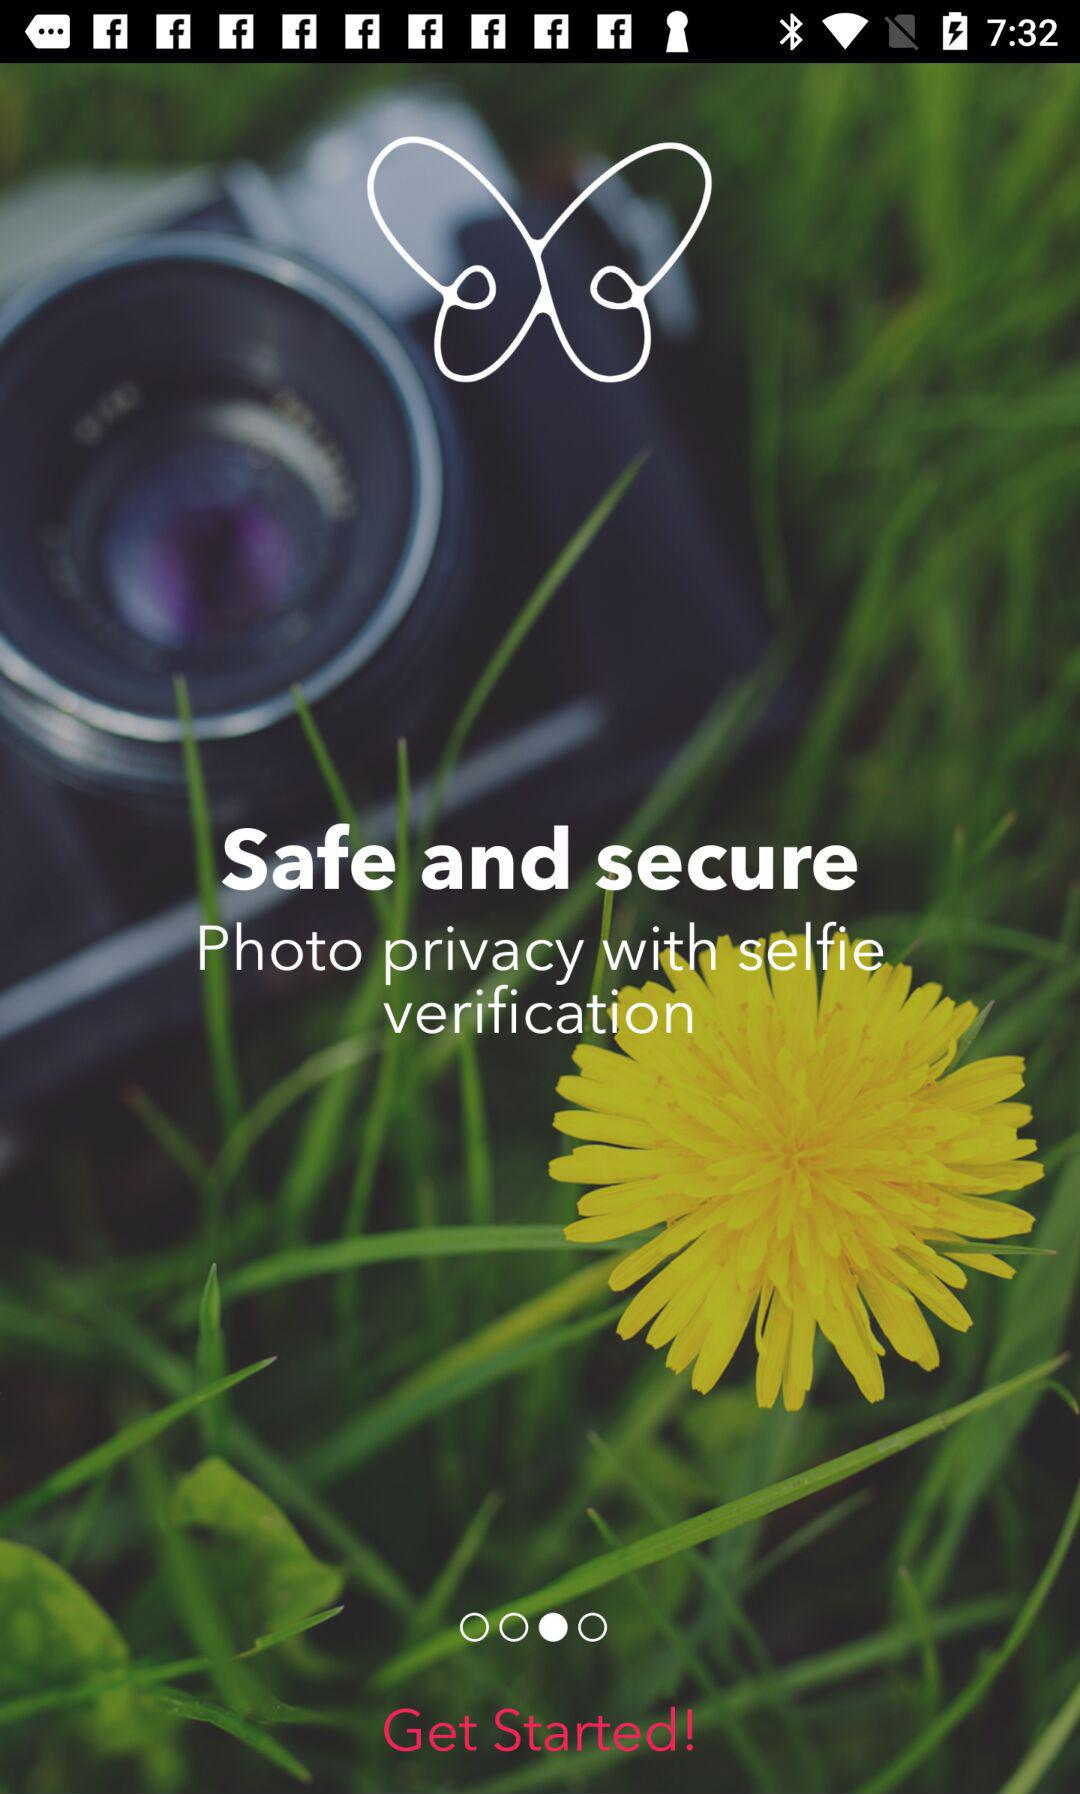BackgroundImage: (1, 64, 1080, 1794)
Image: (365, 135, 716, 386)
PageIndicator: (459, 1611, 609, 1644)
Text: (199, 920, 885, 1037), (223, 824, 858, 894), (383, 1704, 694, 1754)
UpperTaskBar: (1, 1, 1080, 64)
